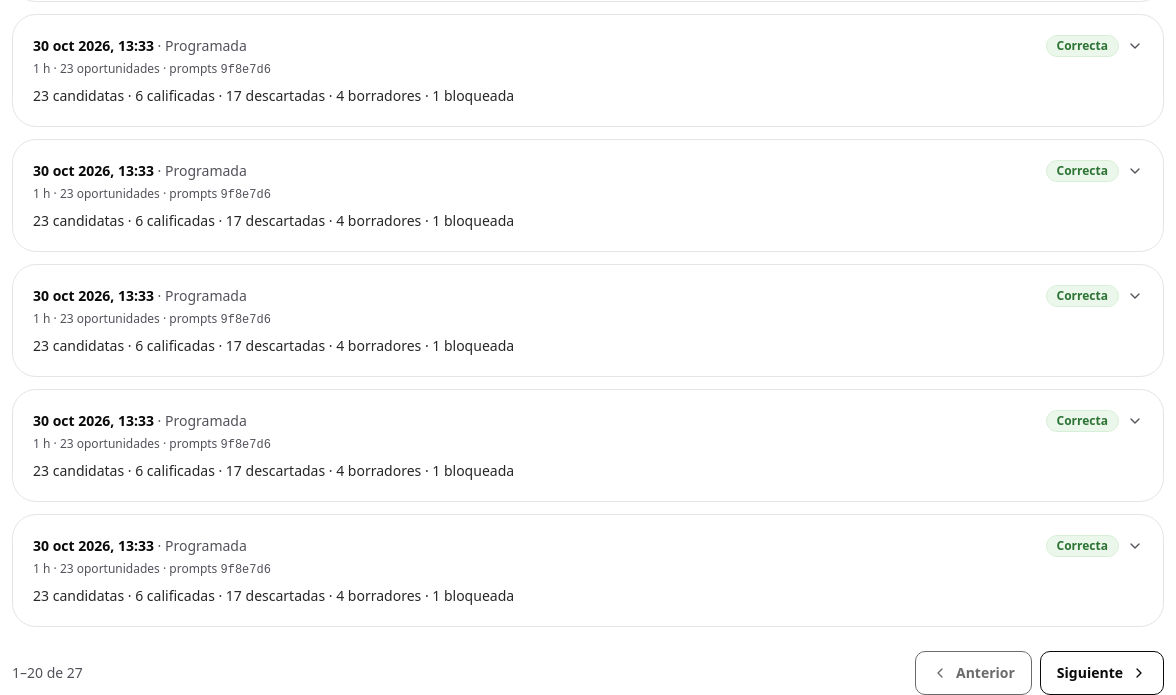
Ejecuciones · lista › pagina de 20 en 20
The width and height of the screenshot is (1176, 695).
(page scrolled)
Expected: the text "1–20 de 27" is shown, left=12, top=663, right=83, bottom=683
Click the button "Siguiente": [1102, 673] box left=1040, top=651, right=1164, bottom=694
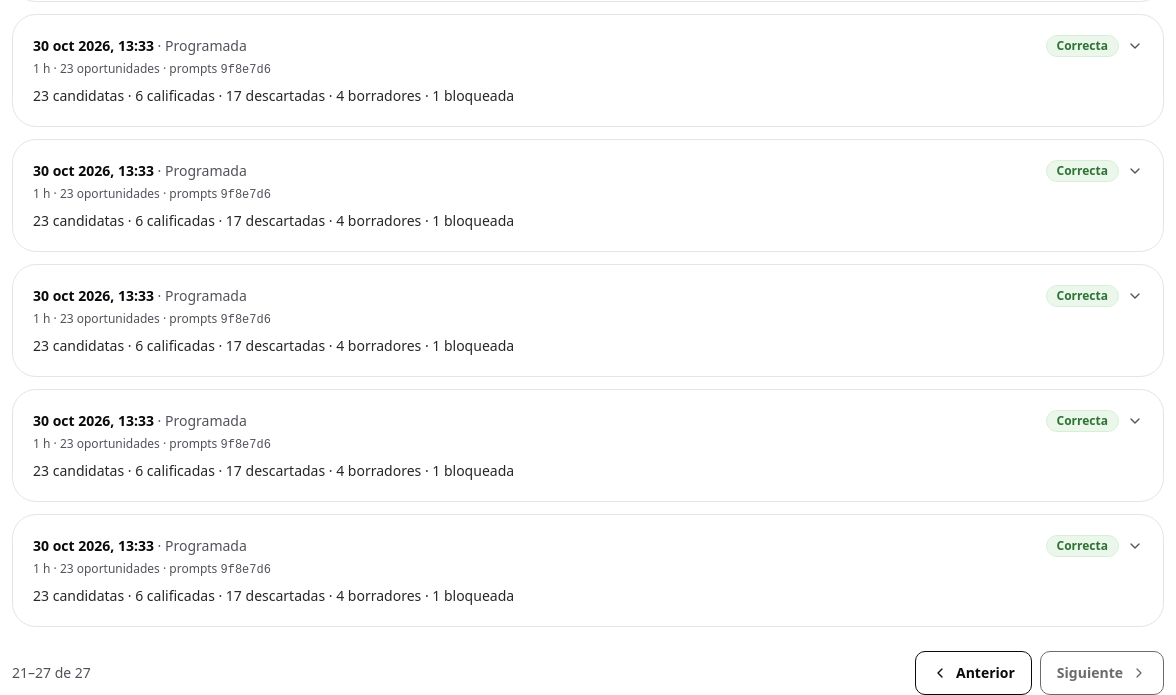
Result: the text "21–27 de 27" is shown at left=12, top=663, right=91, bottom=683
